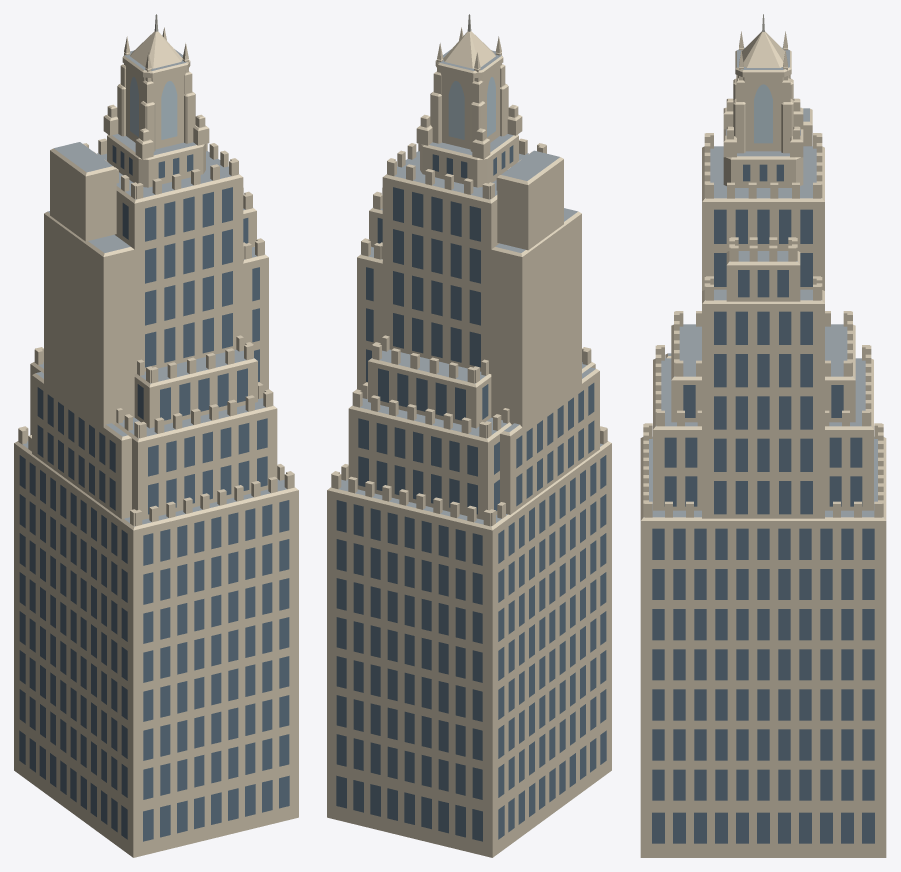
The model's file is kc-power-and-light-building.glb.
The picture shows the model from 3 angles, left to right: view 1: azimuth 30°, elevation 25°; view 2: azimuth 150°, elevation 25°; view 3: azimuth 270°, elevation 25°; orthographic projection. The views are drawn at different scales.
Parts seen in each view (by area): view 1: Kansas City Power & Light Building; view 2: Kansas City Power & Light Building; view 3: Kansas City Power & Light Building.
Boxes of the visible parts, x1,y1,x2,y2 form: Kansas City Power & Light Building: (14, 14, 298, 857); Kansas City Power & Light Building: (327, 14, 611, 857); Kansas City Power & Light Building: (640, 14, 886, 857).
Size of the model in its own units: 32.1 by 144 by 40.1.
